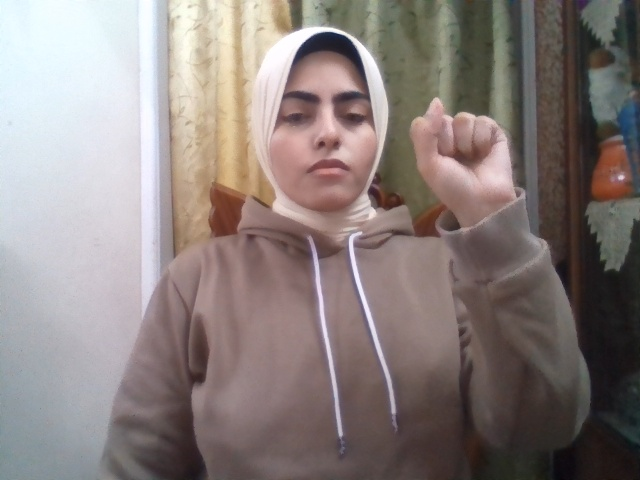S: (410, 98, 515, 202)
